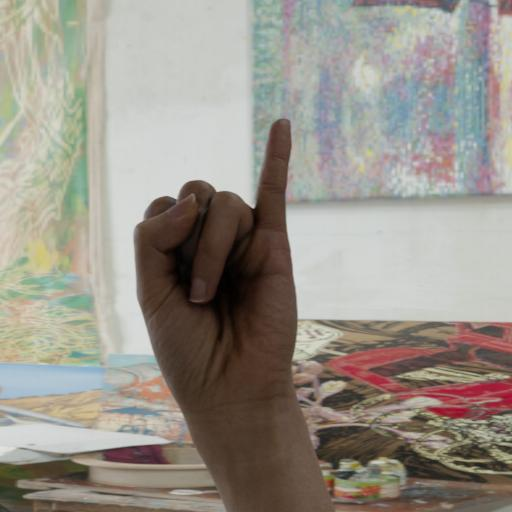I: (124, 108, 327, 476)
